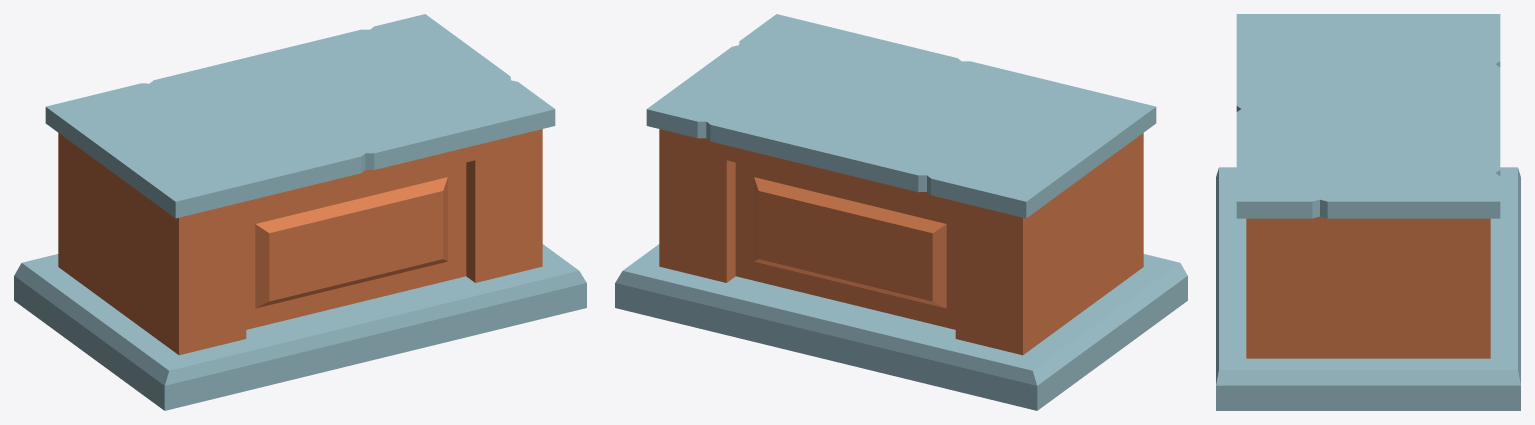
The model's file is d_kenney_autel_bois.glb.
The picture shows the model from 3 angles, left to right: view 1: azimuth 30°, elevation 25°; view 2: azimuth 150°, elevation 25°; view 3: azimuth 270°, elevation 25°; orthographic projection.
Parts seen in each view (by area): view 1: d_kenney_autel_bois; view 2: d_kenney_autel_bois; view 3: d_kenney_autel_bois.
Part boxes in pixels (x1,y1,x2,y2): d_kenney_autel_bois: [14, 14, 586, 410]; d_kenney_autel_bois: [615, 14, 1187, 410]; d_kenney_autel_bois: [1216, 14, 1520, 410].
Size of the model in its own units: 1.06 by 0.4701 by 0.6532.
1 material, 1 textured.
